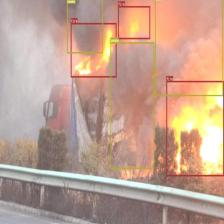fire: (166, 81, 224, 176), (71, 23, 116, 77), (118, 6, 150, 39)
smoke: (155, 0, 223, 96), (110, 42, 154, 169), (66, 0, 102, 53)
